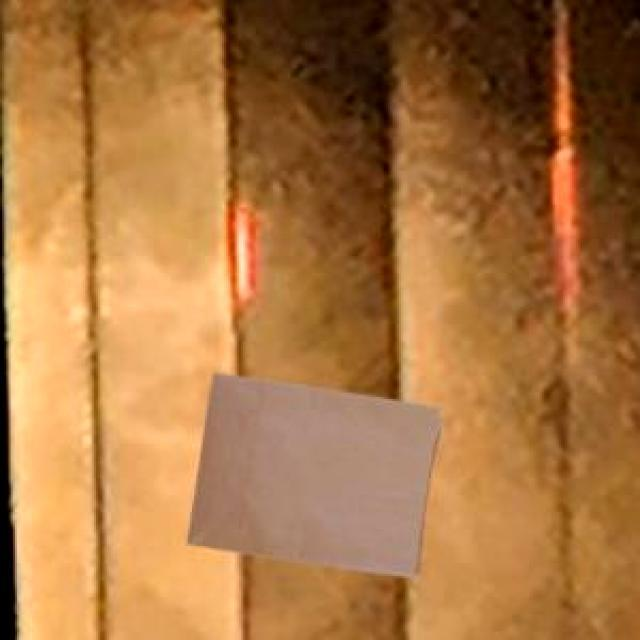Paper_Bag: (184, 370, 440, 575)
